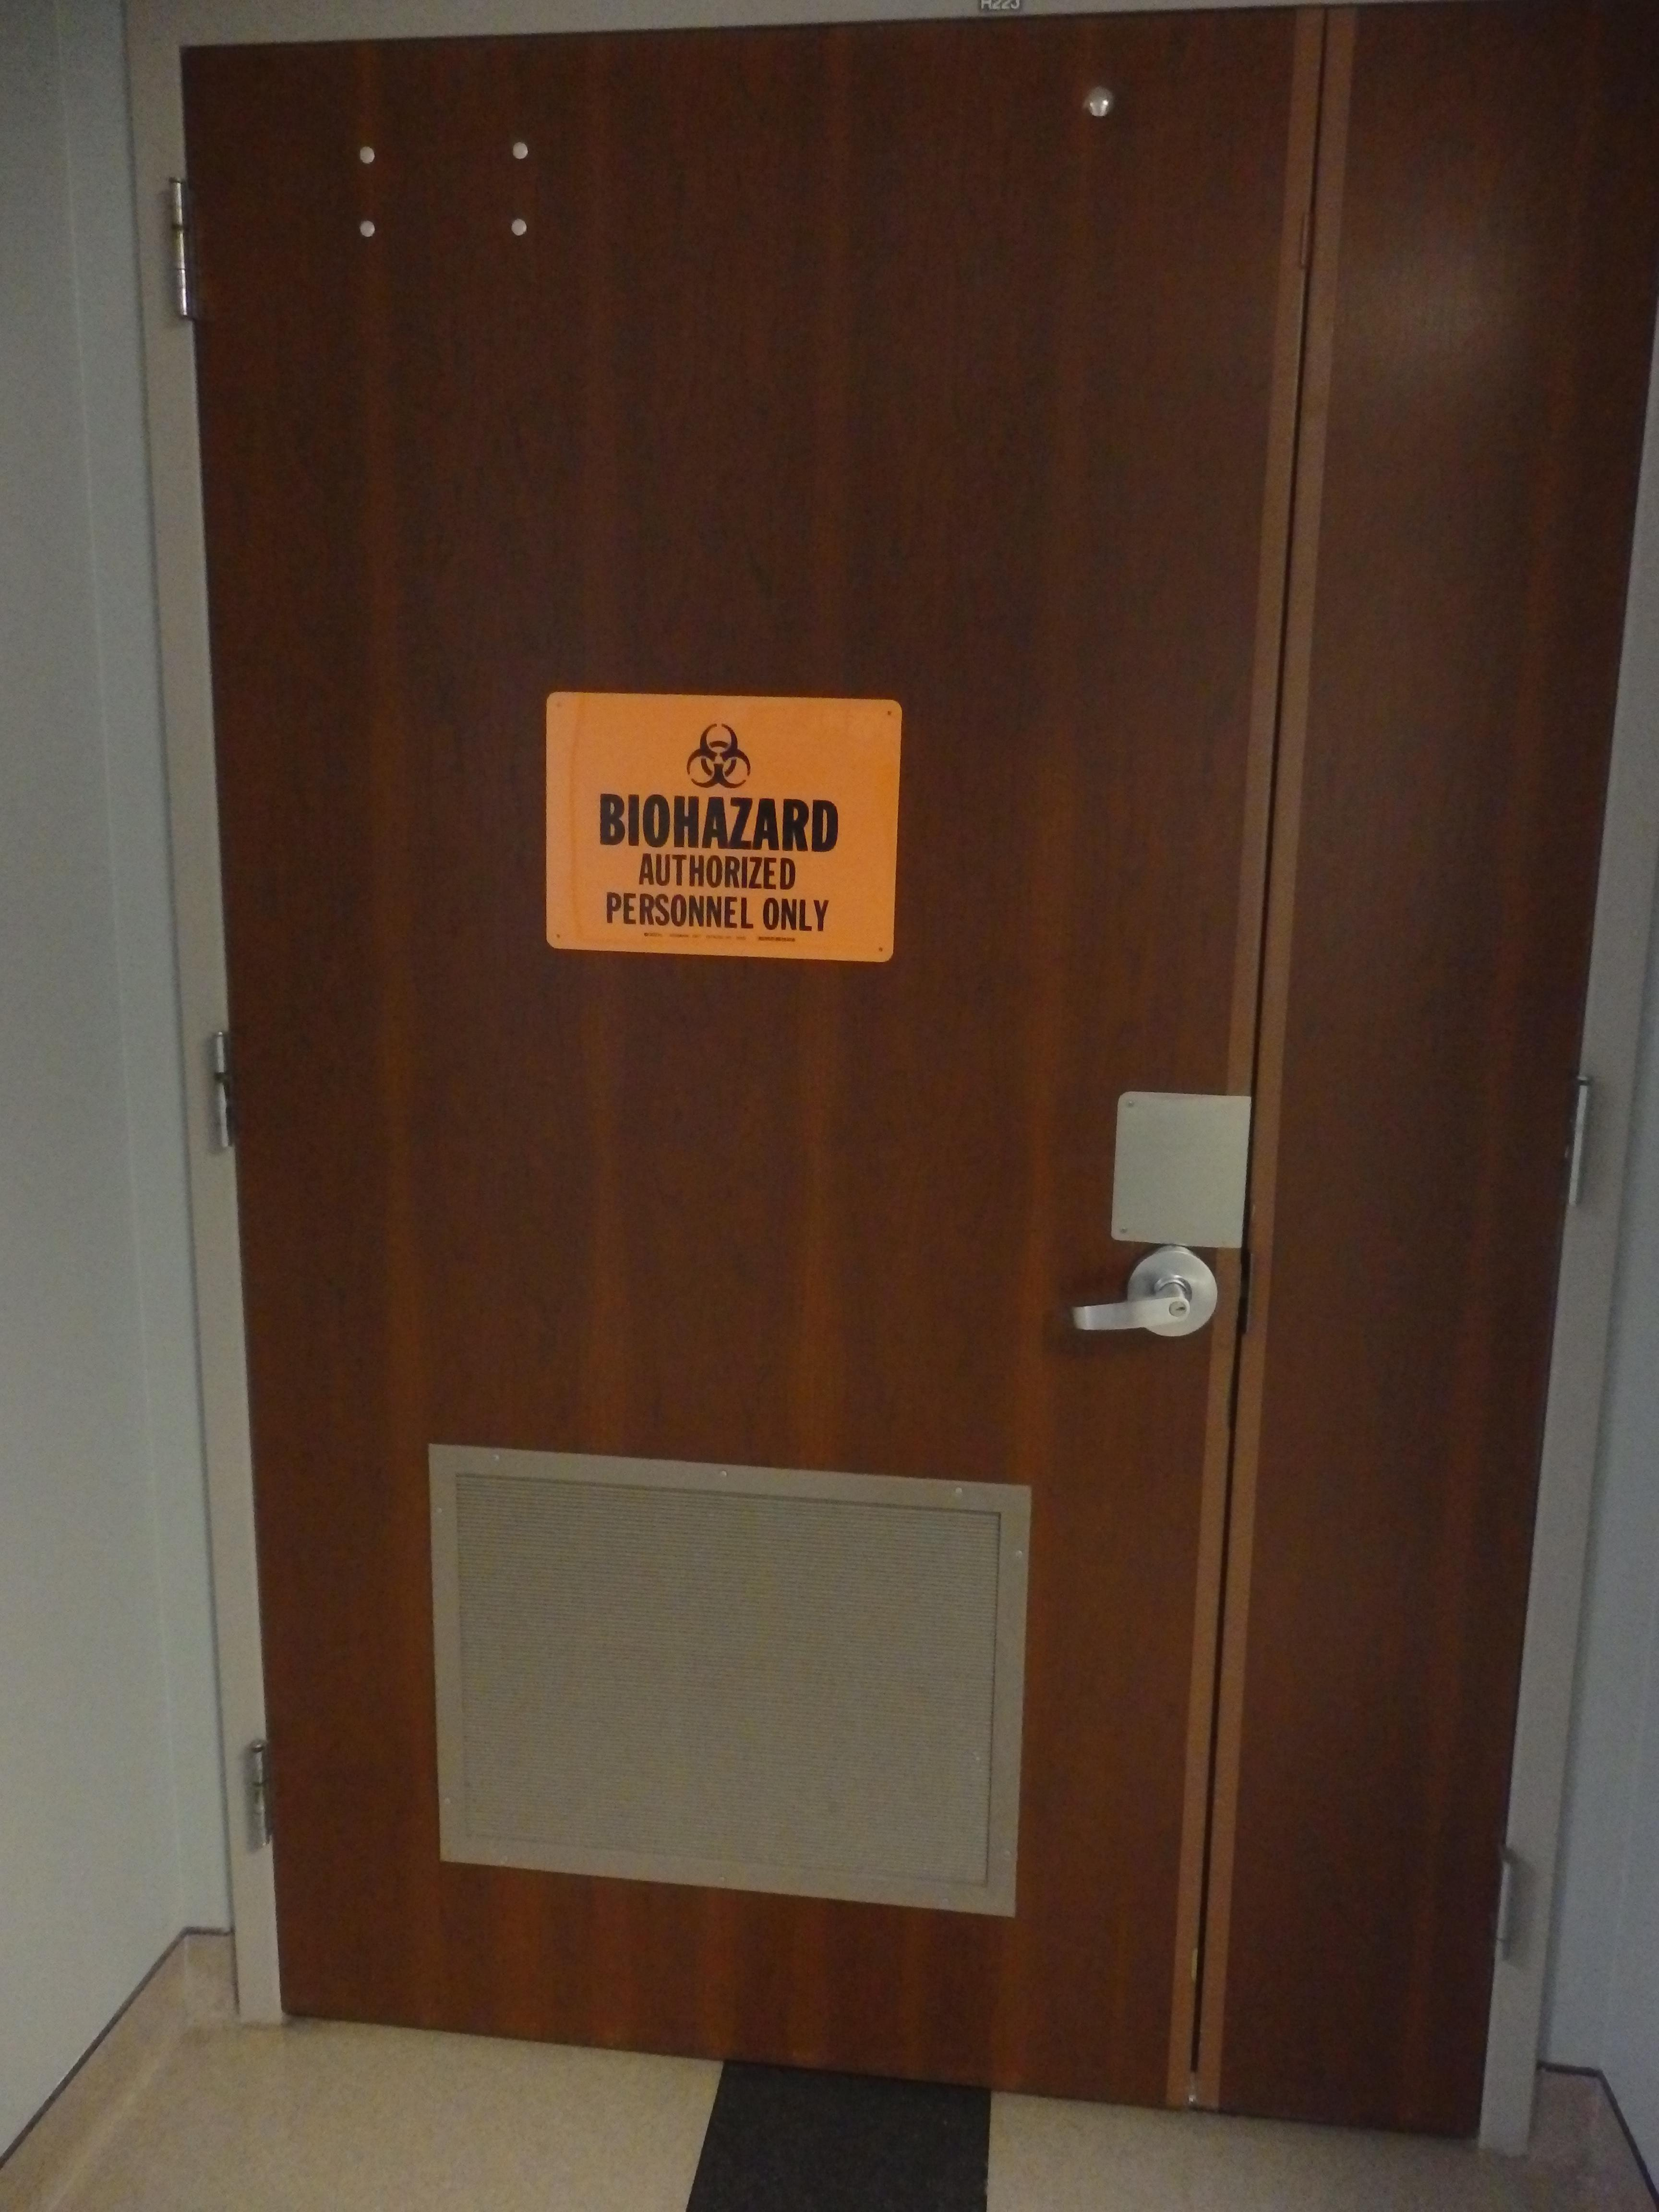door: (145, 16, 1298, 2132)
